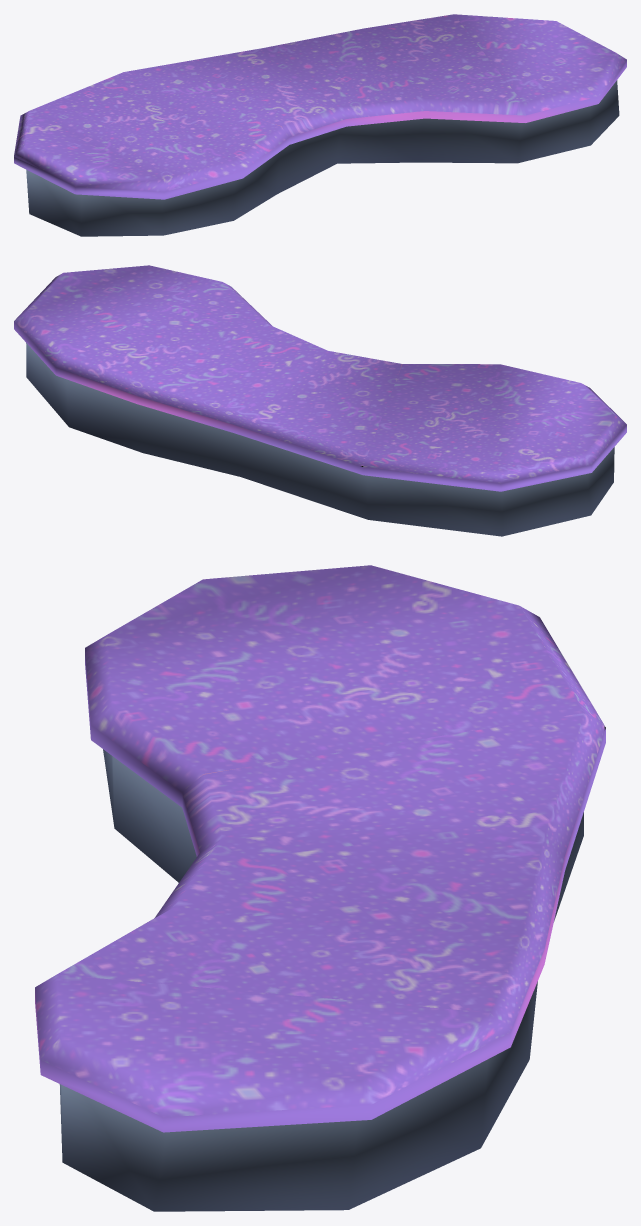
The model's file is Fbx_BowlingIslands.fbx_Island3.fbx.
3 views of the same model, one above another, from view 1: azimuth 30°, elevation 25°; view 2: azimuth 150°, elevation 25°; view 3: azimuth 270°, elevation 25° (orthographic). The views are drawn at different scales.
Visible parts, largest first — view 1: BowlingIsland3; view 2: BowlingIsland3; view 3: BowlingIsland3.
Boxes of the visible parts, box(x1,y1,x2,y2) form: BowlingIsland3: box(14, 14, 626, 236); BowlingIsland3: box(14, 265, 626, 536); BowlingIsland3: box(35, 565, 605, 1211).
Size of the model in its own units: 15.42 by 1.8 by 6.83.
